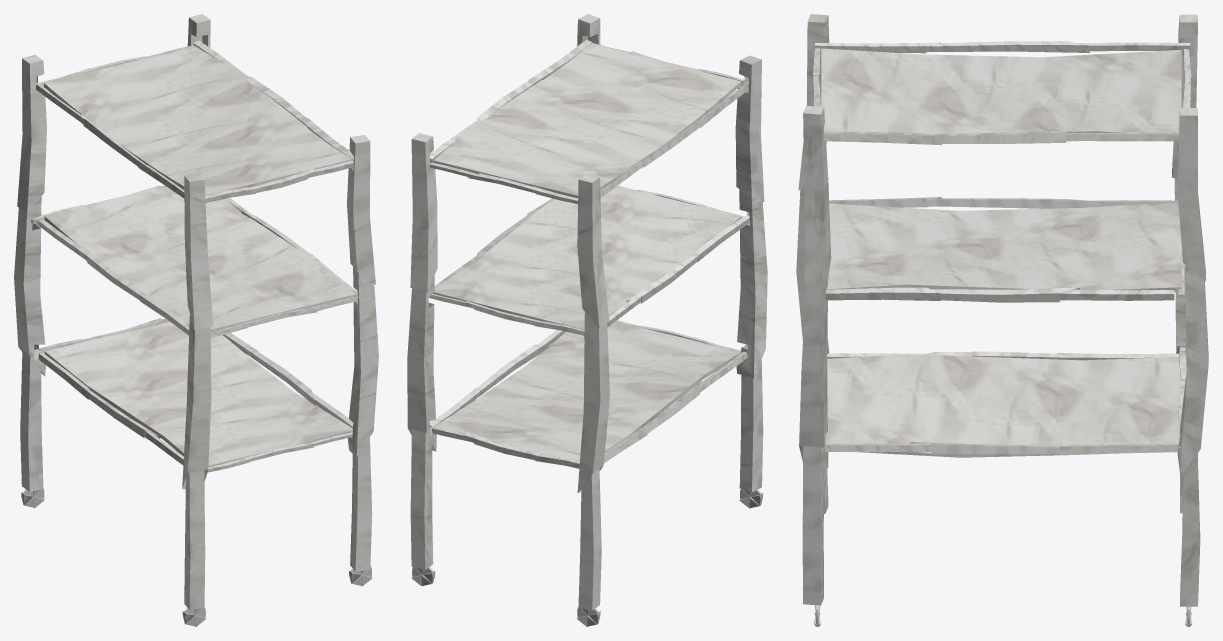
Rendered from Estanteria.FBX.
The picture shows the model from 3 angles, left to right: view 1: azimuth 30°, elevation 25°; view 2: azimuth 150°, elevation 25°; view 3: azimuth 270°, elevation 25°; orthographic projection. The views are drawn at different scales.
Visible parts, largest first — view 1: EstanteMaletas; view 2: EstanteMaletas; view 3: EstanteMaletas.
Boxes of the visible parts, bbox=[...] form: EstanteMaletas: bbox=[14, 14, 378, 626]; EstanteMaletas: bbox=[407, 14, 767, 626]; EstanteMaletas: bbox=[796, 14, 1208, 626].
Bounding box in the file's own units: 106 × 232 × 168.
